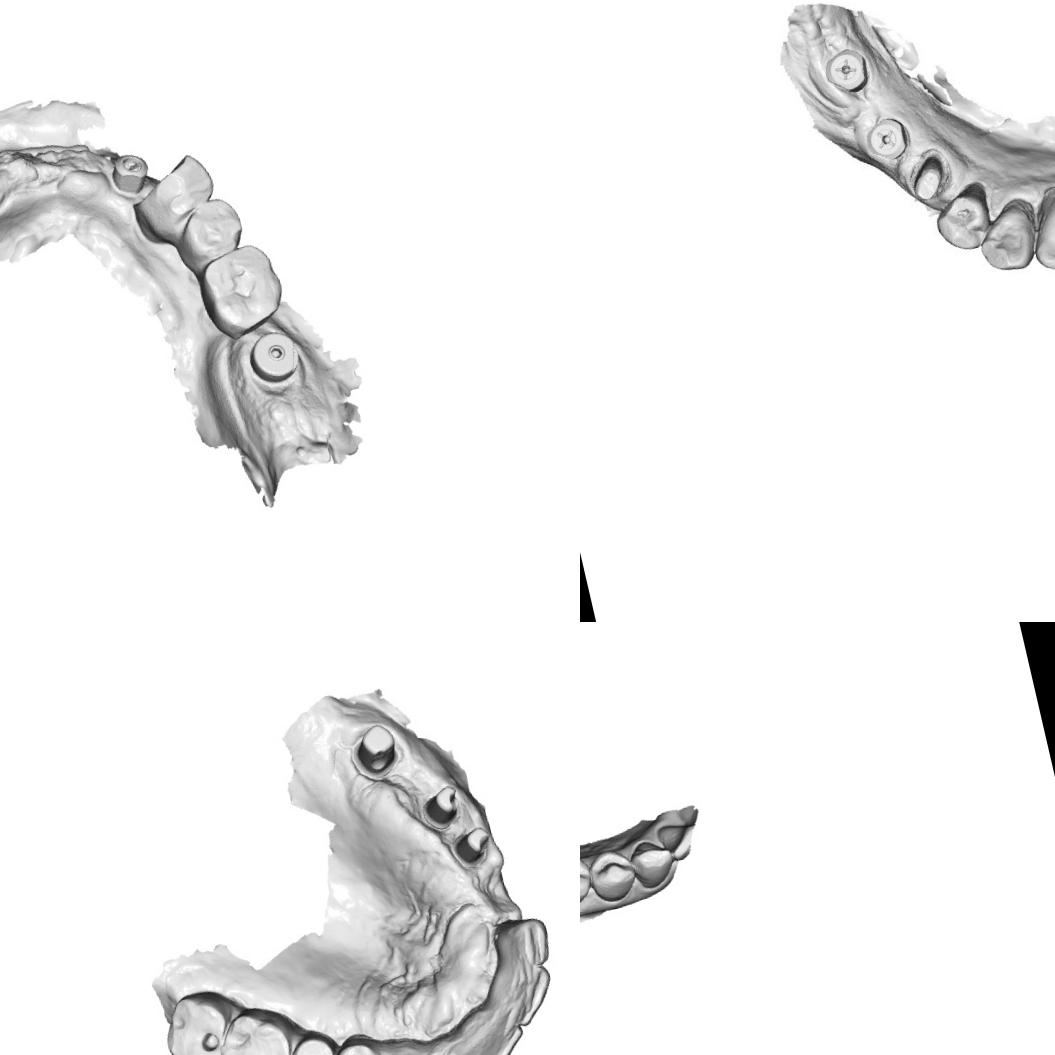abutment: (345, 720, 404, 784), (418, 780, 468, 835), (448, 822, 500, 870)
canine: (970, 198, 1046, 283), (626, 835, 678, 892), (363, 1033, 438, 1055)
crown: (899, 152, 953, 207)
implant: (243, 324, 305, 386), (104, 146, 152, 197)
implant_plus: (822, 44, 870, 96), (864, 114, 910, 162)
incisor: (492, 961, 564, 1032), (490, 912, 554, 978), (459, 1009, 535, 1055), (1023, 185, 1055, 279), (655, 819, 703, 865), (418, 1034, 483, 1055)
molar: (188, 236, 291, 344), (153, 984, 246, 1055), (207, 998, 308, 1055)
premolar: (126, 148, 224, 248), (168, 190, 254, 274), (929, 179, 1004, 259), (584, 844, 641, 906), (273, 1023, 347, 1055), (316, 1028, 393, 1055), (580, 851, 597, 914)
